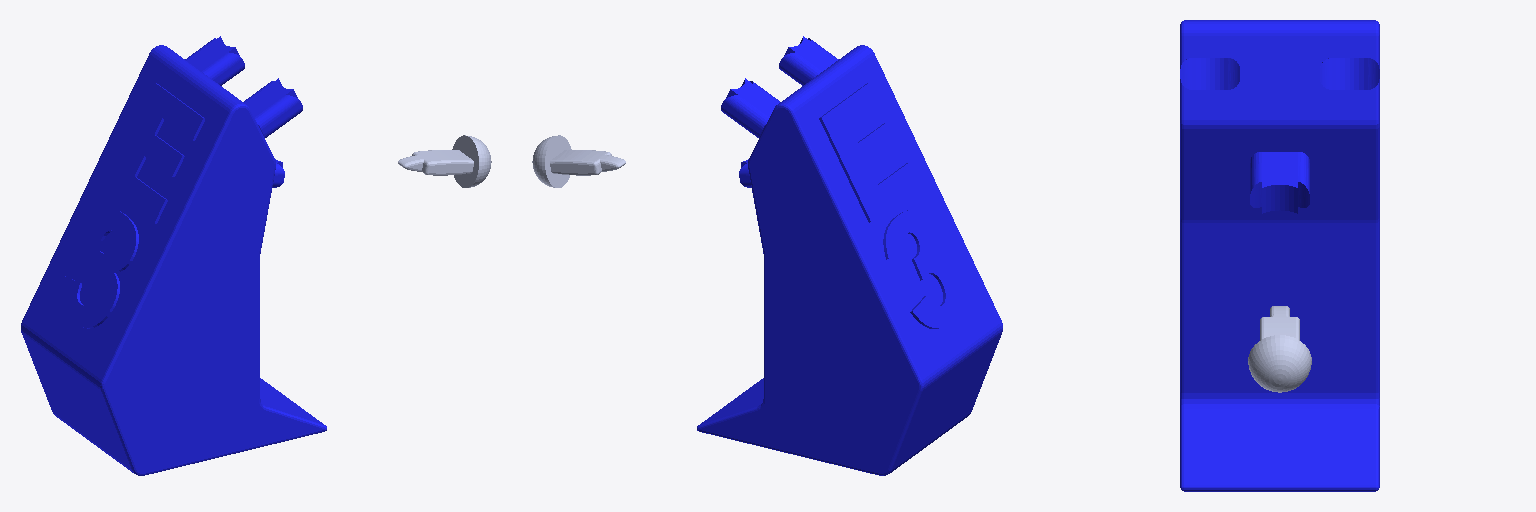
The robot description file, URDF, robot "HandAssembly5":
<?xml version="1.0" encoding="utf-8"?>
<!-- This URDF was automatically created by SolidWorks to URDF Exporter! Originally created by [author] ([email redacted]) 
     Commit Version: 1.6.0-4-g7f85cfe  Build Version: 1.6.7995.38578
     For more information, please see http://wiki.ros.org/sw_urdf_exporter -->
<robot
  name="HandAssembly5">
  <link
    name="base_link">
    <inertial>
      <origin
        xyz="-0.0957355123457233 -9.33844645680804E-05 0.454079173572236"
        rpy="0 0 0" />
      <mass
        value="225.175136389995" />
      <inertia
        ixx="23.9107053609577"
        ixy="0.019113829505406"
        ixz="-2.38705549230706"
        iyy="24.277742757271"
        iyz="0.0443441796689224"
        izz="9.91091787540998" />
    </inertial>
    <visual>
      <origin
        xyz="0 0 0"
        rpy="0 0 0" />
      <geometry>
        <mesh
          filename="package://HandAssembly5/meshes/base_link.STL" />
      </geometry>
      <material
        name="">
        <color
          rgba="0.188235294117647 0.203921568627451 1 1" />
      </material>
    </visual>
    <collision>
      <origin
        xyz="0 0 0"
        rpy="0 0 0" />
      <geometry>
        <mesh
          filename="package://HandAssembly5/meshes/base_link.STL" />
      </geometry>
    </collision>
  </link>
  <link
    name="finger_1">
    <inertial>
      <origin
        xyz="0.058211400276605 3.76936423740482E-08 8.73444794269318E-08"
        rpy="0 0 0" />
      <mass
        value="2.62291217240702" />
      <inertia
        ixx="0.0059915016755219"
        ixy="2.23180711965421E-08"
        ixz="1.35200392851684E-08"
        iyy="0.0153590445392389"
        iyz="-1.69514000170245E-07"
        izz="0.0188065584655924" />
    </inertial>
    <visual>
      <origin
        xyz="0 0 0"
        rpy="0 0 0" />
      <geometry>
        <mesh
          filename="package://HandAssembly5/meshes/finger_1.STL" />
      </geometry>
      <material
        name="">
        <color
          rgba="0.188235294117647 0.203921568627451 1 1" />
      </material>
    </visual>
    <collision>
      <origin
        xyz="0 0 0"
        rpy="0 0 0" />
      <geometry>
        <mesh
          filename="package://HandAssembly5/meshes/finger_1.STL" />
      </geometry>
    </collision>
  </link>
  <joint
    name="fin1"
    type="revolute">
    <origin
      xyz="0.292117822710978 0.175 1.14406683612052"
      rpy="-3.14159265358979 -0.434081521732677 0" />
    <parent
      link="base_link" />
    <child
      link="finger_1" />
    <axis
      xyz="0 0 1" />
    <limit
      lower="0"
      upper="2"
      effort="0"
      velocity="0" />
  </joint>
  <link
    name="finger_1_1">
    <inertial>
      <origin
        xyz="0.109229658566421 -1.08218189409648E-07 2.77427967543264E-07"
        rpy="0 0 0" />
      <mass
        value="2.39969201778968" />
      <inertia
        ixx="0.00501927352597898"
        ixy="-1.63973205559399E-08"
        ixz="-2.28348034184707E-08"
        iyy="0.0157115159697322"
        iyz="1.57050948514169E-09"
        izz="0.0126581692982653" />
    </inertial>
    <visual>
      <origin
        xyz="0 0 0"
        rpy="0 0 0" />
      <geometry>
        <mesh
          filename="package://HandAssembly5/meshes/finger_1_1.STL" />
      </geometry>
      <material
        name="">
        <color
          rgba="0.188235294117647 0.203921568627451 1 1" />
      </material>
    </visual>
    <collision>
      <origin
        xyz="0 0 0"
        rpy="0 0 0" />
      <geometry>
        <mesh
          filename="package://HandAssembly5/meshes/finger_1_1.STL" />
      </geometry>
    </collision>
  </link>
  <joint
    name="fin1_1"
    type="revolute">
    <origin
      xyz="0.179528059776071 0 0"
      rpy="-1.5707963267949 0 0" />
    <parent
      link="finger_1" />
    <child
      link="finger_1_1" />
    <axis
      xyz="-5.91557224570015E-05 0 -0.999999998211192" />
    <limit
      lower="0"
      upper="2"
      effort="0"
      velocity="0" />
  </joint>
  <link
    name="finger_1_1_1">
    <inertial>
      <origin
        xyz="0.180465436095979 -4.34883250521878E-08 4.23646132619027E-08"
        rpy="0 0 0" />
      <mass
        value="1.9242557493213" />
      <inertia
        ixx="0.00352221462280165"
        ixy="1.53025432666088E-08"
        ixz="2.34602653598481E-08"
        iyy="0.0122191473111296"
        iyz="-6.31477478167242E-10"
        izz="0.0117365284602967" />
    </inertial>
    <visual>
      <origin
        xyz="0 0 0"
        rpy="0 0 0" />
      <geometry>
        <mesh
          filename="package://HandAssembly5/meshes/finger_1_1_1.STL" />
      </geometry>
      <material
        name="">
        <color
          rgba="0.792156862745098 0.819607843137255 0.933333333333333 1" />
      </material>
    </visual>
    <collision>
      <origin
        xyz="0 0 0"
        rpy="0 0 0" />
      <geometry>
        <mesh
          filename="package://HandAssembly5/meshes/finger_1_1_1.STL" />
      </geometry>
    </collision>
  </link>
  <joint
    name="fin1_1_1"
    type="revolute">
    <origin
      xyz="0.235471940223928 0 0"
      rpy="0 0 0" />
    <parent
      link="finger_1_1" />
    <child
      link="finger_1_1_1" />
    <axis
      xyz="5.91557224571689E-05 0 0.999999998211192" />
    <limit
      lower="0"
      upper="2"
      effort="0"
      velocity="0" />
  </joint>
  <link
    name="finger_1_eef">
    <inertial>
      <origin
        xyz="-0.0245345639040211 4.23646132619027E-08 4.34883247191209E-08"
        rpy="0 0 0" />
      <mass
        value="1.9242557493213" />
      <inertia
        ixx="0.00352221462280165"
        ixy="2.34602653599029E-08"
        ixz="-1.53025432646572E-08"
        iyy="0.0117365284602967"
        iyz="6.31477478172835E-10"
        izz="0.0122191473111296" />
    </inertial>
    <visual>
      <origin
        xyz="0 0 0"
        rpy="0 0 0" />
      <geometry>
        <mesh
          filename="package://HandAssembly5/meshes/finger_1_eef.STL" />
      </geometry>
      <material
        name="">
        <color
          rgba="0.792156862745098 0.819607843137255 0.933333333333333 1" />
      </material>
    </visual>
    <collision>
      <origin
        xyz="0 0 0"
        rpy="0 0 0" />
      <geometry>
        <mesh
          filename="package://HandAssembly5/meshes/finger_1_eef.STL" />
      </geometry>
    </collision>
  </link>
  <joint
    name="fin1_eef"
    type="fixed">
    <origin
      xyz="0.205 0 0"
      rpy="1.5707963267949 0 0" />
    <parent
      link="finger_1_1_1" />
    <child
      link="finger_1_eef" />
    <axis
      xyz="0 0 0" />
  </joint>
  <link
    name="finger_2">
    <inertial>
      <origin
        xyz="0.0582116120903939 1.11964540194798E-07 -3.91548026557054E-07"
        rpy="0 0 0" />
      <mass
        value="2.62290642499631" />
      <inertia
        ixx="0.00599168807900474"
        ixy="3.82927900220961E-08"
        ixz="-4.28218440602646E-08"
        iyy="0.0153587683117724"
        iyz="-1.29684289260522E-07"
        izz="0.0188064358562405" />
    </inertial>
    <visual>
      <origin
        xyz="0 0 0"
        rpy="0 0 0" />
      <geometry>
        <mesh
          filename="package://HandAssembly5/meshes/finger_2.STL" />
      </geometry>
      <material
        name="">
        <color
          rgba="0.188235294117647 0.203921568627451 1 1" />
      </material>
    </visual>
    <collision>
      <origin
        xyz="0 0 0"
        rpy="0 0 0" />
      <geometry>
        <mesh
          filename="package://HandAssembly5/meshes/finger_2.STL" />
      </geometry>
    </collision>
  </link>
  <joint
    name="fin2"
    type="revolute">
    <origin
      xyz="0.338191099465507 0 0.774632196937085"
      rpy="3.14159265358979 0.194237175479863 0" />
    <parent
      link="base_link" />
    <child
      link="finger_2" />
    <axis
      xyz="0 0 1" />
    <limit
      lower="0"
      upper="2"
      effort="0"
      velocity="0" />
  </joint>
  <link
    name="finger_2_1">
    <inertial>
      <origin
        xyz="0.109230300998187 7.04610364499203E-08 1.17474904248738E-07"
        rpy="0 0 0" />
      <mass
        value="2.39970392286082" />
      <inertia
        ixx="0.00501928955128547"
        ixy="-3.51571049600182E-08"
        ixz="2.25113499508722E-08"
        iyy="0.0157116976495695"
        iyz="8.61359518319559E-10"
        izz="0.0126583385705887" />
    </inertial>
    <visual>
      <origin
        xyz="0 0 0"
        rpy="0 0 0" />
      <geometry>
        <mesh
          filename="package://HandAssembly5/meshes/finger_2_1.STL" />
      </geometry>
      <material
        name="">
        <color
          rgba="0.188235294117647 0.203921568627451 1 1" />
      </material>
    </visual>
    <collision>
      <origin
        xyz="0 0 0"
        rpy="0 0 0" />
      <geometry>
        <mesh
          filename="package://HandAssembly5/meshes/finger_2_1.STL" />
      </geometry>
    </collision>
  </link>
  <joint
    name="fin2_1"
    type="revolute">
    <origin
      xyz="0.179528059776071 0 0"
      rpy="-1.5707963267949 0 0" />
    <parent
      link="finger_2" />
    <child
      link="finger_2_1" />
    <axis
      xyz="0 0 -1" />
    <limit
      lower="0"
      upper="2"
      effort="0"
      velocity="0" />
  </joint>
  <link
    name="finger_2_1_1">
    <inertial>
      <origin
        xyz="0.18046559586156 3.01820902159911E-07 -9.74496372485589E-10"
        rpy="0 0 0" />
      <mass
        value="1.92424517665912" />
      <inertia
        ixx="0.0035221963386311"
        ixy="6.17228919889837E-09"
        ixz="6.36595521465759E-09"
        iyy="0.0122189474087319"
        iyz="2.78510539181517E-10"
        izz="0.0117363268700237" />
    </inertial>
    <visual>
      <origin
        xyz="0 0 0"
        rpy="0 0 0" />
      <geometry>
        <mesh
          filename="package://HandAssembly5/meshes/finger_2_1_1.STL" />
      </geometry>
      <material
        name="">
        <color
          rgba="0.792156862745098 0.819607843137255 0.933333333333333 1" />
      </material>
    </visual>
    <collision>
      <origin
        xyz="0 0 0"
        rpy="0 0 0" />
      <geometry>
        <mesh
          filename="package://HandAssembly5/meshes/finger_2_1_1.STL" />
      </geometry>
    </collision>
  </link>
  <joint
    name="fin2_1_1"
    type="revolute">
    <origin
      xyz="0.235471940223929 0 0"
      rpy="0 0 0" />
    <parent
      link="finger_2_1" />
    <child
      link="finger_2_1_1" />
    <axis
      xyz="0 0 1" />
    <limit
      lower="0"
      upper="2"
      effort="0"
      velocity="0" />
  </joint>
  <link
    name="finger_2_eef">
    <inertial>
      <origin
        xyz="-0.0245344041384397 -9.74496372485589E-10 -3.01820902159911E-07"
        rpy="0 0 0" />
      <mass
        value="1.92424517665912" />
      <inertia
        ixx="0.0035221963386311"
        ixy="6.36595521587555E-09"
        ixz="-6.17228919651313E-09"
        iyy="0.0117363268700237"
        iyz="-2.78510539241131E-10"
        izz="0.0122189474087319" />
    </inertial>
    <visual>
      <origin
        xyz="0 0 0"
        rpy="0 0 0" />
      <geometry>
        <mesh
          filename="package://HandAssembly5/meshes/finger_2_eef.STL" />
      </geometry>
      <material
        name="">
        <color
          rgba="0.792156862745098 0.819607843137255 0.933333333333333 1" />
      </material>
    </visual>
    <collision>
      <origin
        xyz="0 0 0"
        rpy="0 0 0" />
      <geometry>
        <mesh
          filename="package://HandAssembly5/meshes/finger_2_eef.STL" />
      </geometry>
    </collision>
  </link>
  <joint
    name="fin2_eef"
    type="fixed">
    <origin
      xyz="0.205 0 0"
      rpy="1.5707963267949 0 0" />
    <parent
      link="finger_2_1_1" />
    <child
      link="finger_2_eef" />
    <axis
      xyz="0 0 0" />
  </joint>
  <link
    name="finger_3">
    <inertial>
      <origin
        xyz="0.0582114002766059 3.76936419854701E-08 8.73444788718203E-08"
        rpy="0 0 0" />
      <mass
        value="2.62291217240701" />
      <inertia
        ixx="0.00599150167552193"
        ixy="2.23180711870918E-08"
        ixz="1.3520039289722E-08"
        iyy="0.015359044539239"
        iyz="-1.69514000165525E-07"
        izz="0.0188065584655925" />
    </inertial>
    <visual>
      <origin
        xyz="0 0 0"
        rpy="0 0 0" />
      <geometry>
        <mesh
          filename="package://HandAssembly5/meshes/finger_3.STL" />
      </geometry>
      <material
        name="">
        <color
          rgba="0.188235294117647 0.203921568627451 1 1" />
      </material>
    </visual>
    <collision>
      <origin
        xyz="0 0 0"
        rpy="0 0 0" />
      <geometry>
        <mesh
          filename="package://HandAssembly5/meshes/finger_3.STL" />
      </geometry>
    </collision>
  </link>
  <joint
    name="fin3"
    type="revolute">
    <origin
      xyz="0.292117822710978 -0.175 1.14406683612052"
      rpy="3.14159265358979 -0.434081521732677 0" />
    <parent
      link="base_link" />
    <child
      link="finger_3" />
    <axis
      xyz="0 0 1" />
    <limit
      lower="0"
      upper="2"
      effort="0"
      velocity="0" />
  </joint>
  <link
    name="finger_3_1">
    <inertial>
      <origin
        xyz="0.109229658566421 -1.08218189187603E-07 2.77427967598776E-07"
        rpy="0 0 0" />
      <mass
        value="2.39969201778967" />
      <inertia
        ixx="0.00501927352597895"
        ixy="-1.63973205608188E-08"
        ixz="-2.28348034226873E-08"
        iyy="0.0157115159697319"
        iyz="1.570509486711E-09"
        izz="0.0126581692982651" />
    </inertial>
    <visual>
      <origin
        xyz="0 0 0"
        rpy="0 0 0" />
      <geometry>
        <mesh
          filename="package://HandAssembly5/meshes/finger_3_1.STL" />
      </geometry>
      <material
        name="">
        <color
          rgba="0.188235294117647 0.203921568627451 1 1" />
      </material>
    </visual>
    <collision>
      <origin
        xyz="0 0 0"
        rpy="0 0 0" />
      <geometry>
        <mesh
          filename="package://HandAssembly5/meshes/finger_3_1.STL" />
      </geometry>
    </collision>
  </link>
  <joint
    name="fin3_1"
    type="revolute">
    <origin
      xyz="0.179528059776072 0 0"
      rpy="-1.5707963267949 0 0" />
    <parent
      link="finger_3" />
    <child
      link="finger_3_1" />
    <axis
      xyz="0 0 -1" />
    <limit
      lower="0"
      upper="2"
      effort="0"
      velocity="0" />
  </joint>
  <link
    name="finger_3_1_1">
    <inertial>
      <origin
        xyz="0.180465436095979 -4.34883247191209E-08 4.23646130398581E-08"
        rpy="0 0 0" />
      <mass
        value="1.92425574932128" />
      <inertia
        ixx="0.0035222146228016"
        ixy="1.53025432575015E-08"
        ixz="2.34602653618709E-08"
        iyy="0.0122191473111295"
        iyz="-6.31477478601333E-10"
        izz="0.0117365284602966" />
    </inertial>
    <visual>
      <origin
        xyz="0 0 0"
        rpy="0 0 0" />
      <geometry>
        <mesh
          filename="package://HandAssembly5/meshes/finger_3_1_1.STL" />
      </geometry>
      <material
        name="">
        <color
          rgba="0.792156862745098 0.819607843137255 0.933333333333333 1" />
      </material>
    </visual>
    <collision>
      <origin
        xyz="0 0 0"
        rpy="0 0 0" />
      <geometry>
        <mesh
          filename="package://HandAssembly5/meshes/finger_3_1_1.STL" />
      </geometry>
    </collision>
  </link>
  <joint
    name="fin3_1_1"
    type="revolute">
    <origin
      xyz="0.235471940223929 0 0"
      rpy="0 0 0" />
    <parent
      link="finger_3_1" />
    <child
      link="finger_3_1_1" />
    <axis
      xyz="0 0 -1" />
    <limit
      lower="0"
      upper="2"
      effort="0"
      velocity="0" />
  </joint>
  <link
    name="finger_3_eef">
    <inertial>
      <origin
        xyz="-0.0245345639040211 4.23646130398581E-08 4.34883247191209E-08"
        rpy="0 0 0" />
      <mass
        value="1.92425574932128" />
      <inertia
        ixx="0.0035222146228016"
        ixy="2.34602653598607E-08"
        ixz="-1.53025432538152E-08"
        iyy="0.0117365284602966"
        iyz="6.31477478427142E-10"
        izz="0.0122191473111295" />
    </inertial>
    <visual>
      <origin
        xyz="0 0 0"
        rpy="0 0 0" />
      <geometry>
        <mesh
          filename="package://HandAssembly5/meshes/finger_3_eef.STL" />
      </geometry>
      <material
        name="">
        <color
          rgba="0.792156862745098 0.819607843137255 0.933333333333333 1" />
      </material>
    </visual>
    <collision>
      <origin
        xyz="0 0 0"
        rpy="0 0 0" />
      <geometry>
        <mesh
          filename="package://HandAssembly5/meshes/finger_3_eef.STL" />
      </geometry>
    </collision>
  </link>
  <joint
    name="fin3_eef"
    type="fixed">
    <origin
      xyz="0.205 0 0"
      rpy="1.5707963267949 0 0" />
    <parent
      link="finger_3_1_1" />
    <child
      link="finger_3_eef" />
    <axis
      xyz="0 0 0" />
  </joint>
</robot>

--- Facts derived from the render (not from the file) ---
3 views of the same robot in one strip: view 1: azimuth 30°, elevation 25°; view 2: azimuth 150°, elevation 25°; view 3: azimuth 270°, elevation 25° (orthographic).
Robot: HandAssembly5 — 13 links, 12 joints (9 revolute, 3 fixed); root link base_link; default pose: all joints at 0.
Links seen in each view (by area): view 1: base_link, finger_2_1_1; view 2: base_link, finger_2_1_1; view 3: base_link, finger_2_1_1.
Boxes of the visible links, x1,y1,x2,y2 form: base_link: (21,36,326,475); finger_2_1_1: (398,135,491,187); base_link: (697,36,1002,475); finger_2_1_1: (532,135,625,187); base_link: (1180,20,1379,491); finger_2_1_1: (1248,306,1311,392).
Bounding box of the posed robot: 1.49 × 0.5 × 1.16 m (x, y, z).
Meshes: 13 distinct files referenced, 2 mesh visuals loaded (2 binary STL); not drawn: 11 (reference not matched to a file when rendering).